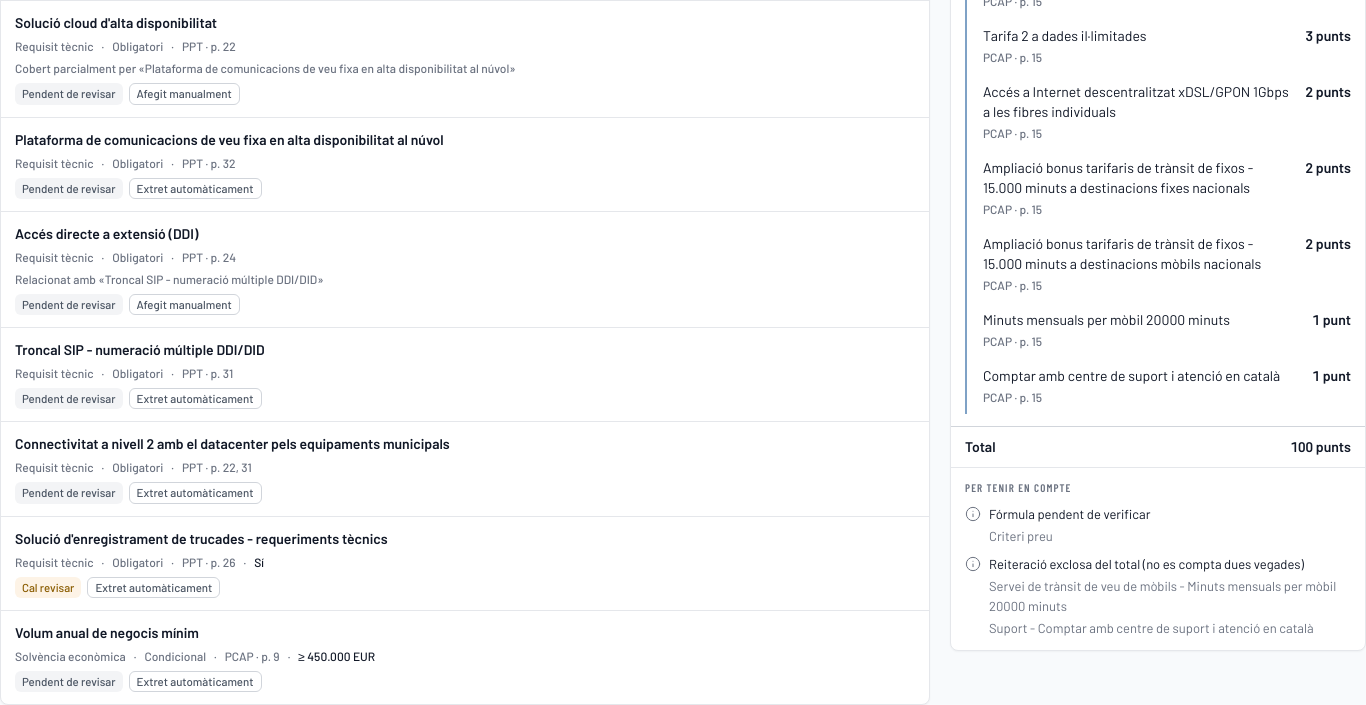
Test case: Accions de revisió d'un requisit › Descartar demana un motiu i diu que no s'esborra res
The image size is (1366, 705).
(page scrolled)
Click the button "Volum anual de negocis mínim" at (107, 632), box [1,611,929,704]
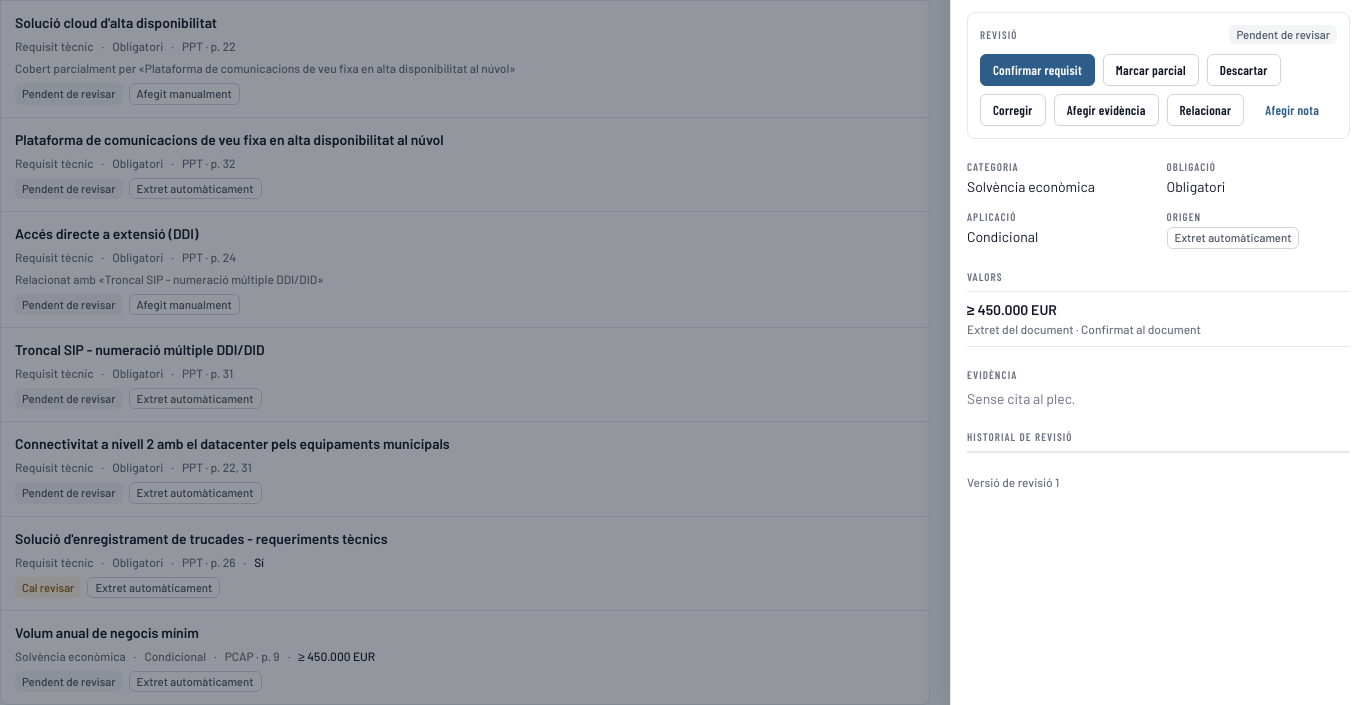
Click the button "Descartar" at (1244, 70), box [1207,54,1281,86]
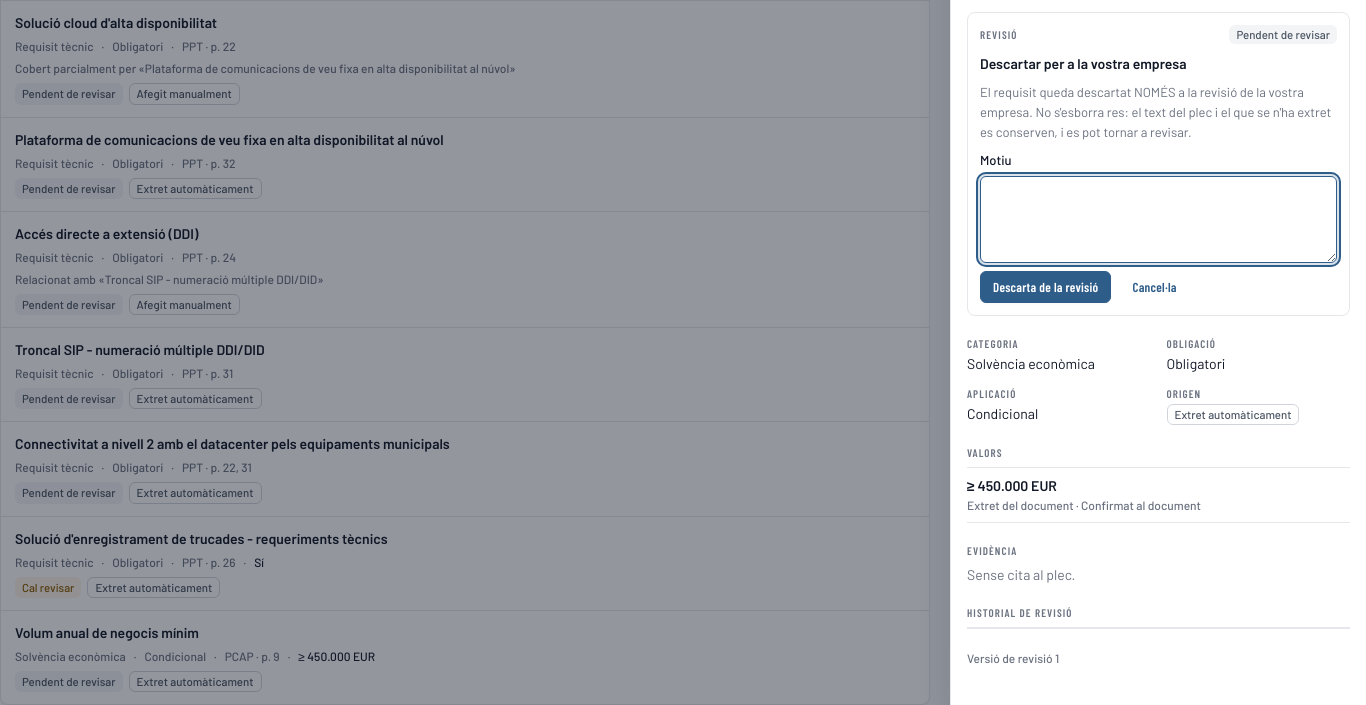
Check: the text "No s'esborra res" is shown, box [980,84,1331,140]
Click the button "Descarta de la revisió" at (1046, 286), box [980,270,1112,302]
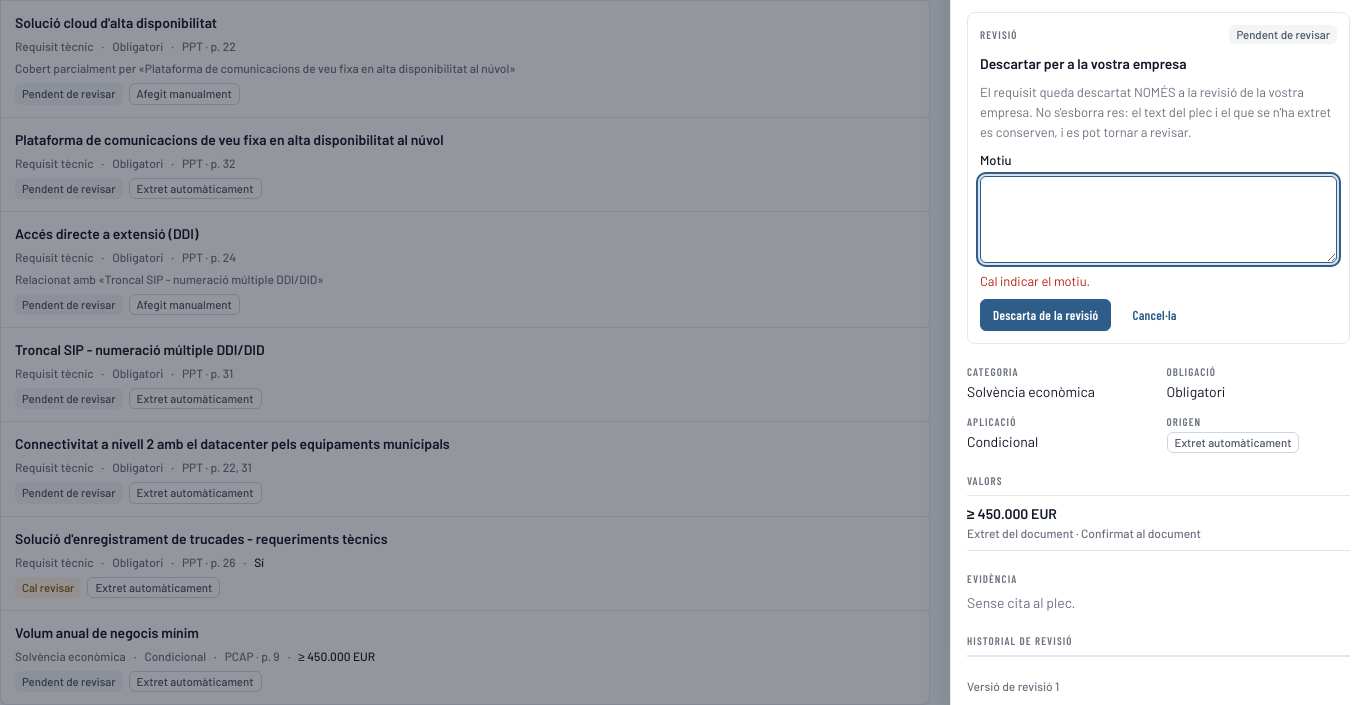
Check: the text "Cal indicar el motiu." is shown, box [980,272,1090,288]
Type "No aplica a aquest lot" into the text box at (1158, 219), box [980,176,1337,263]
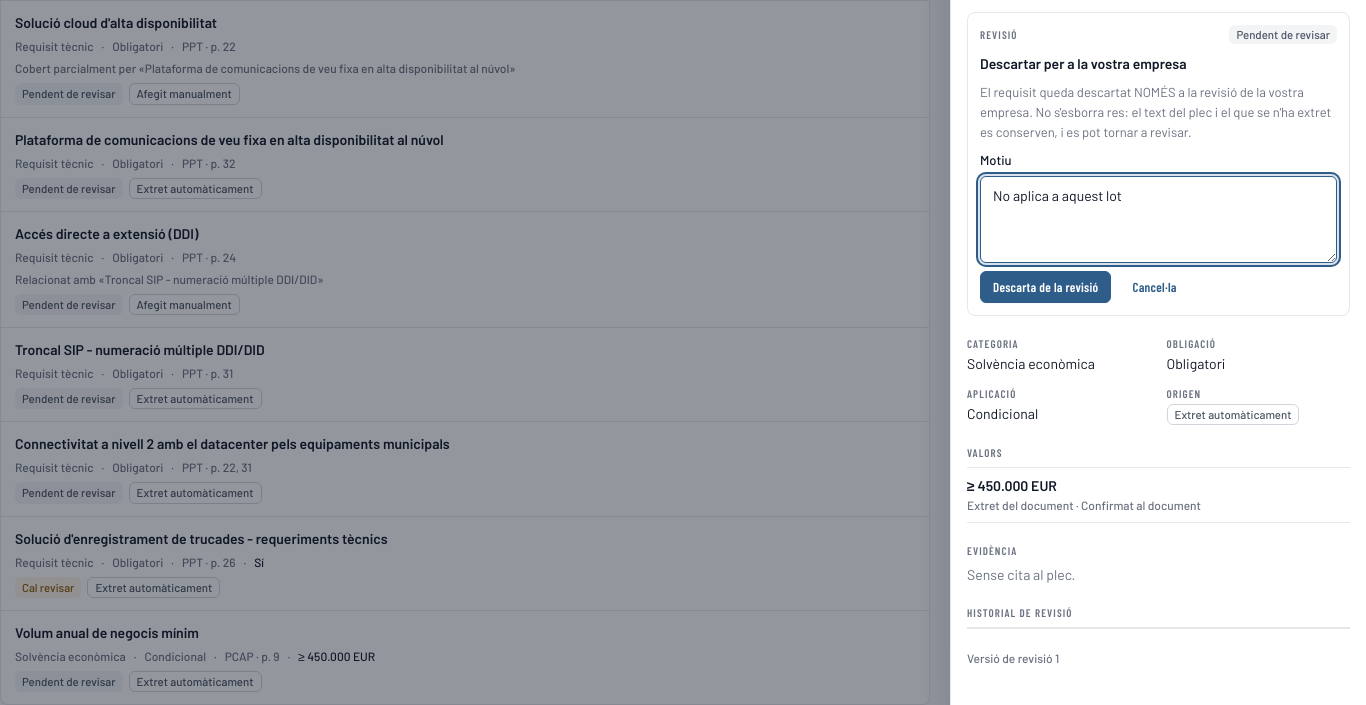
Click the button "Descarta de la revisió" at (1046, 286), box [980,270,1112,302]
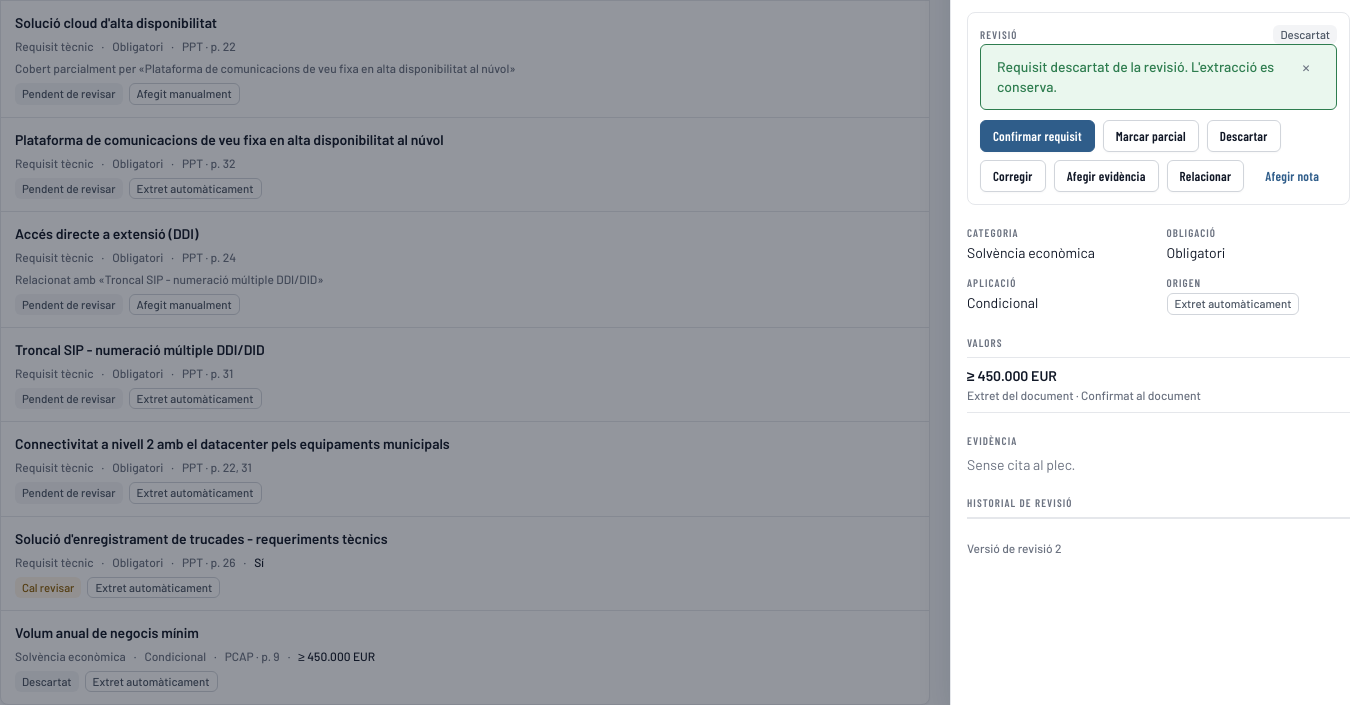
Check: the text "Requisit descartat de la revisió. L'extracció es conserva." is shown, box [997,57,1276,97]
